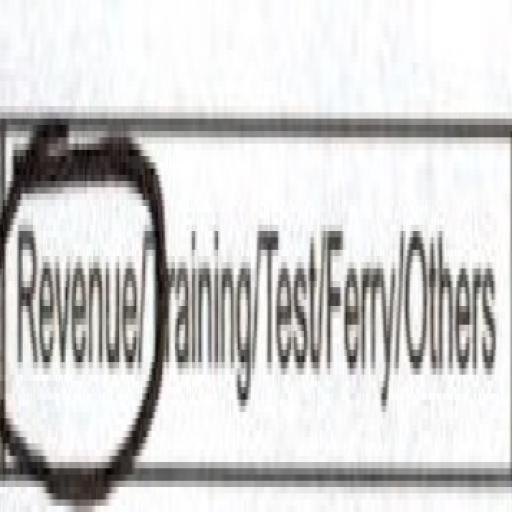check: (0, 0, 145, 512)
